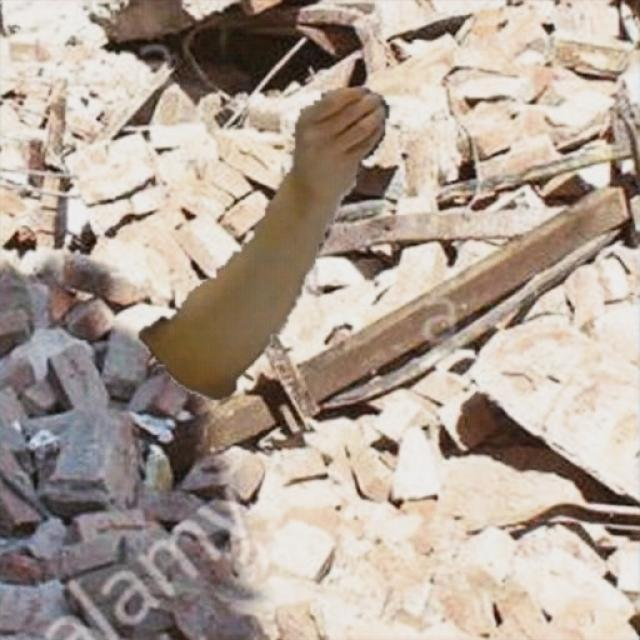Person in Rubble: (138, 88, 388, 398)
